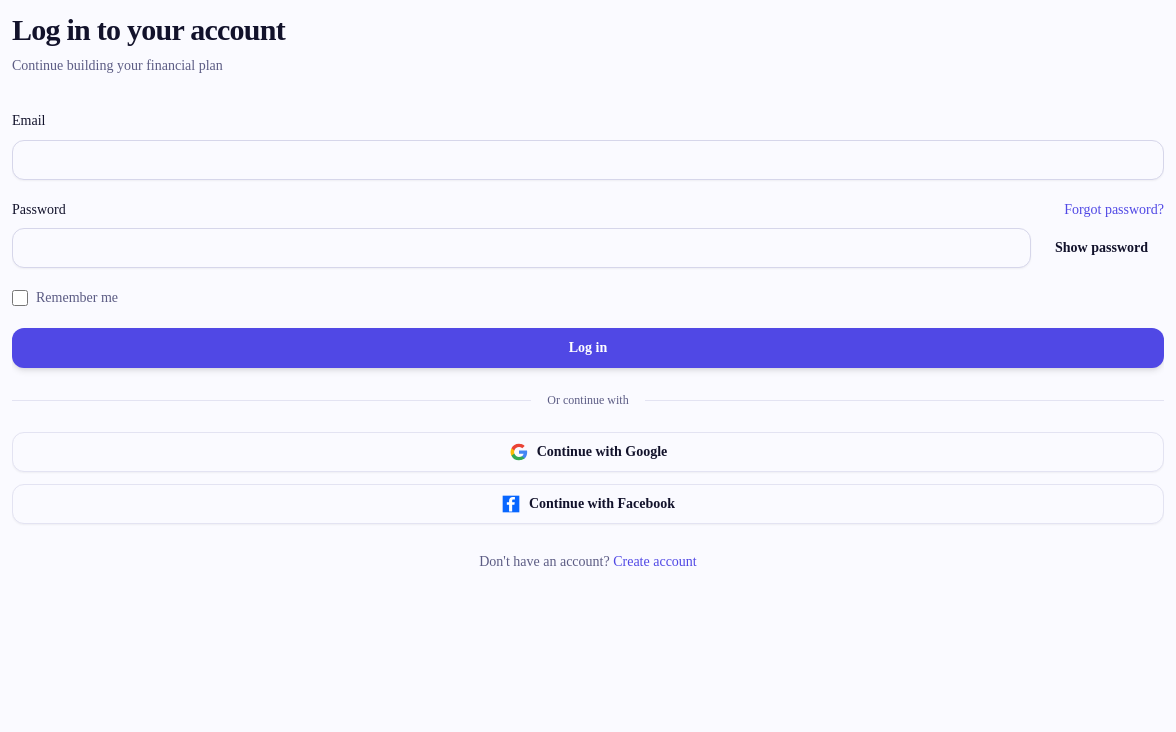
Scenario: login form › toggles password visibility and shows inline email validation
The image size is (1176, 732).
Click the button "Show password" at x=1102, y=248, box [1039,228,1164,268]
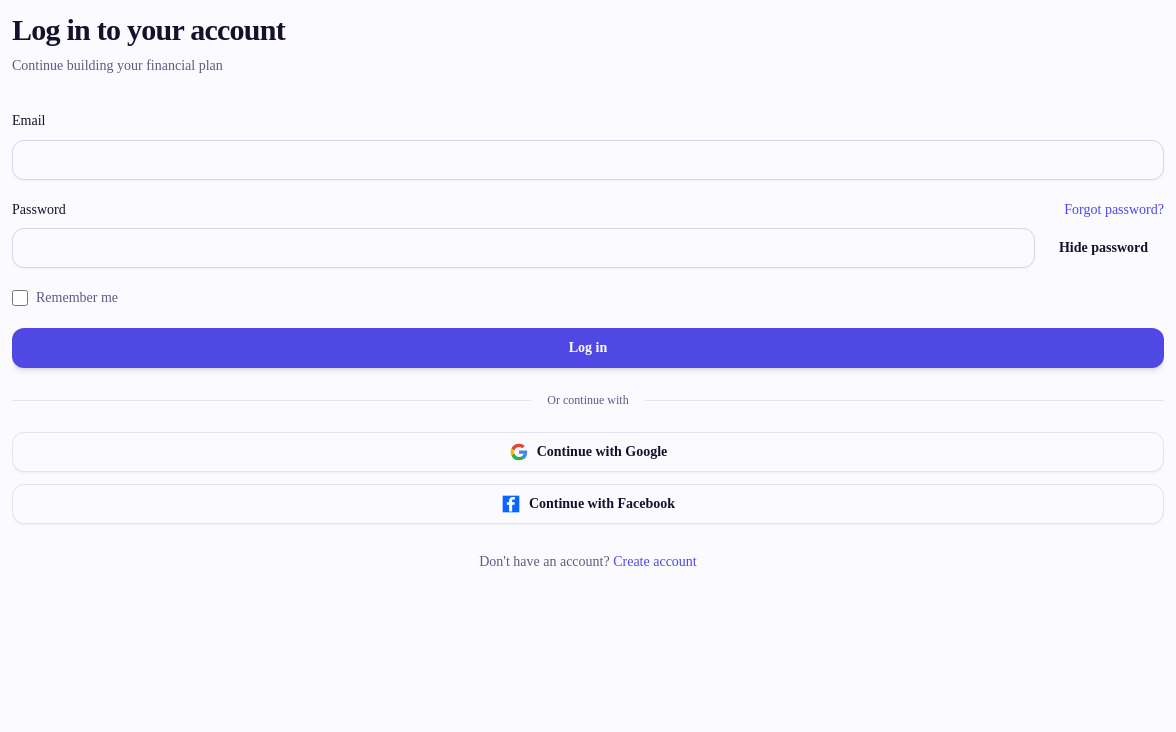
Type "not-an-email" into the field labelled "Email" at x=588, y=160, box [12,140,1164,180]
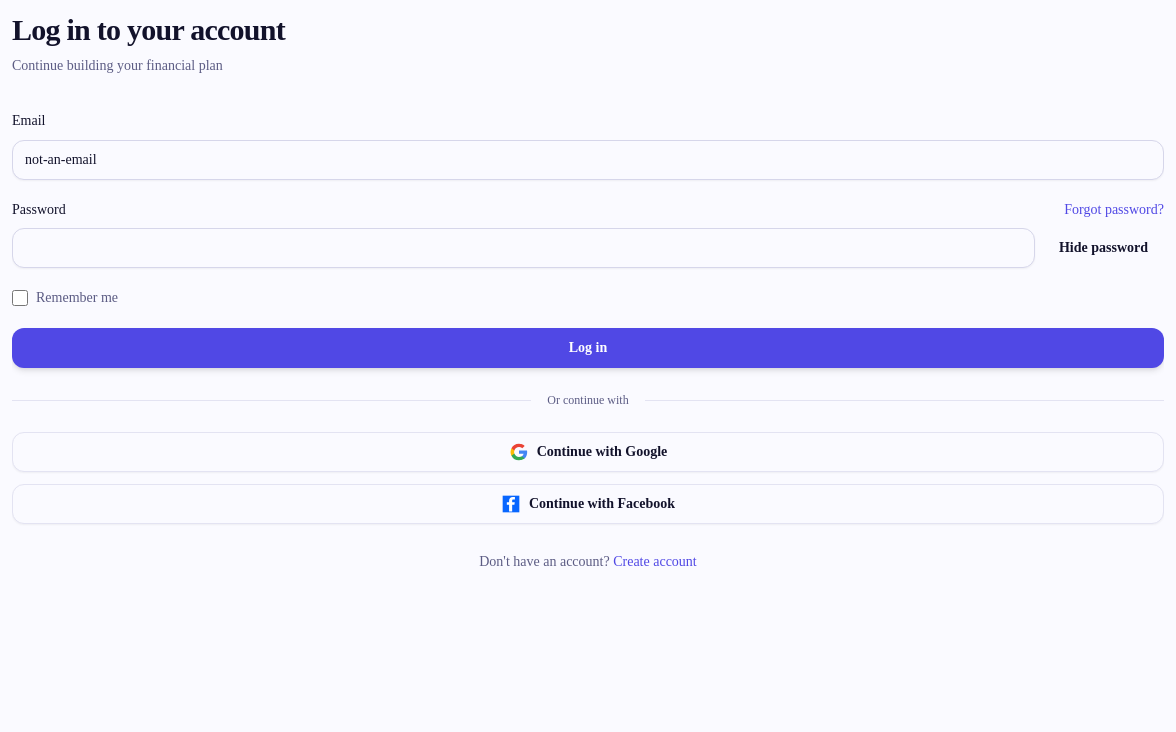
Click the button "Log in" at x=588, y=348, box [12,328,1164,368]
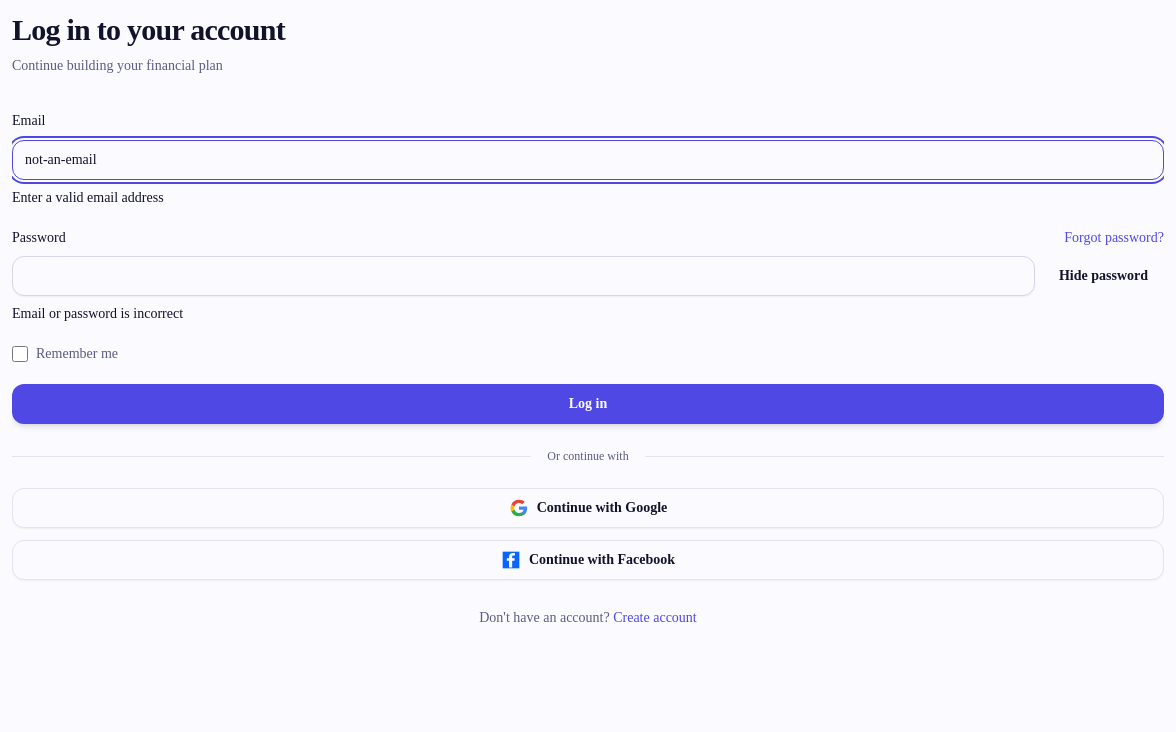
Expected: the text "Enter a valid email address" is shown, [12,190,164,205]
